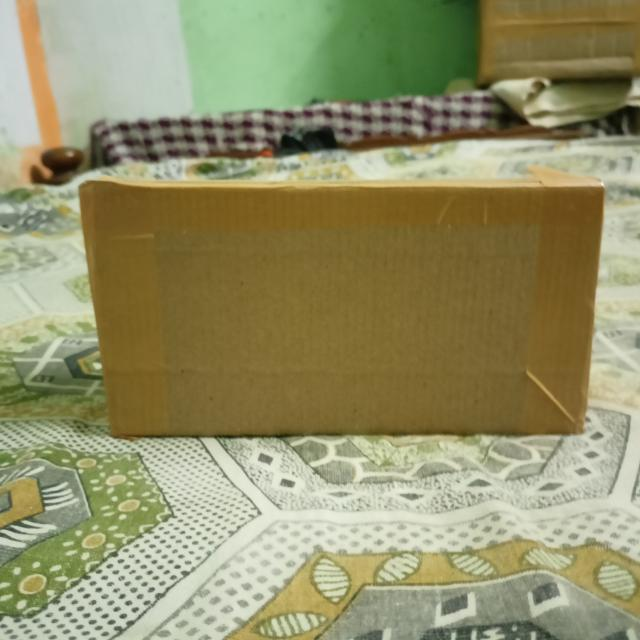box: (81, 186, 604, 439)
